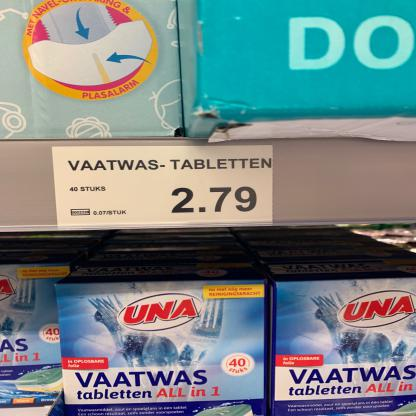prtg: (51, 146, 275, 231)
